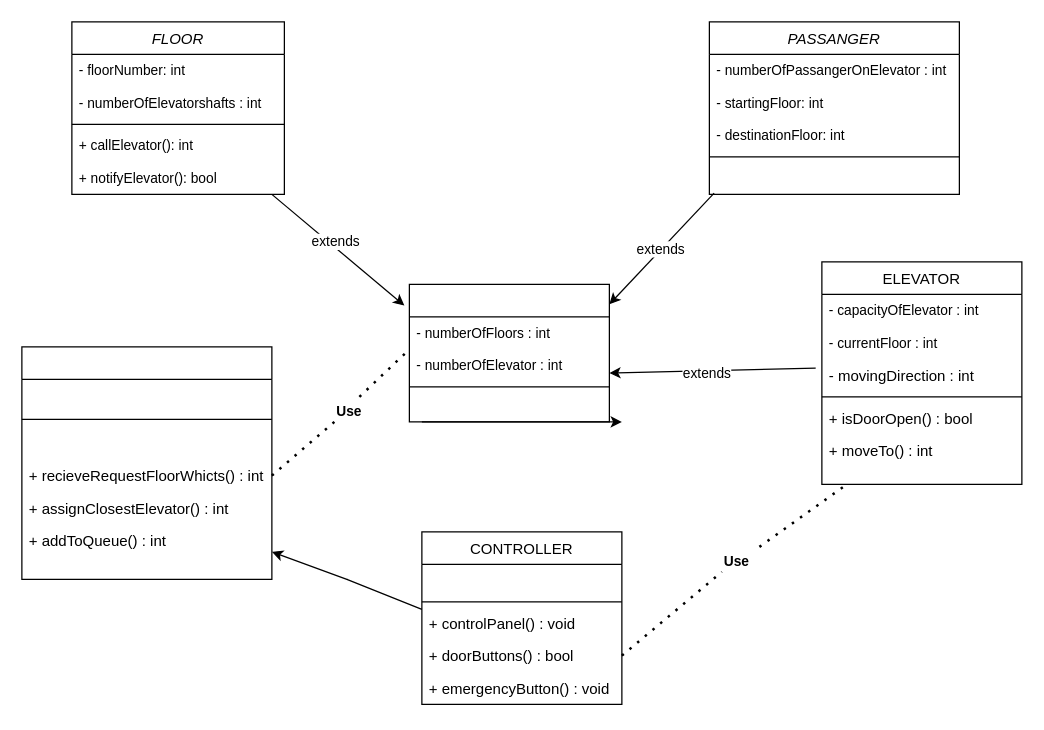
This 1044x730 diagram has some shape labels left out. Each missing label, with the box of its shape:
BUILDING: (408, 283, 609, 422)
SCHEDULER: (21, 346, 272, 579)
